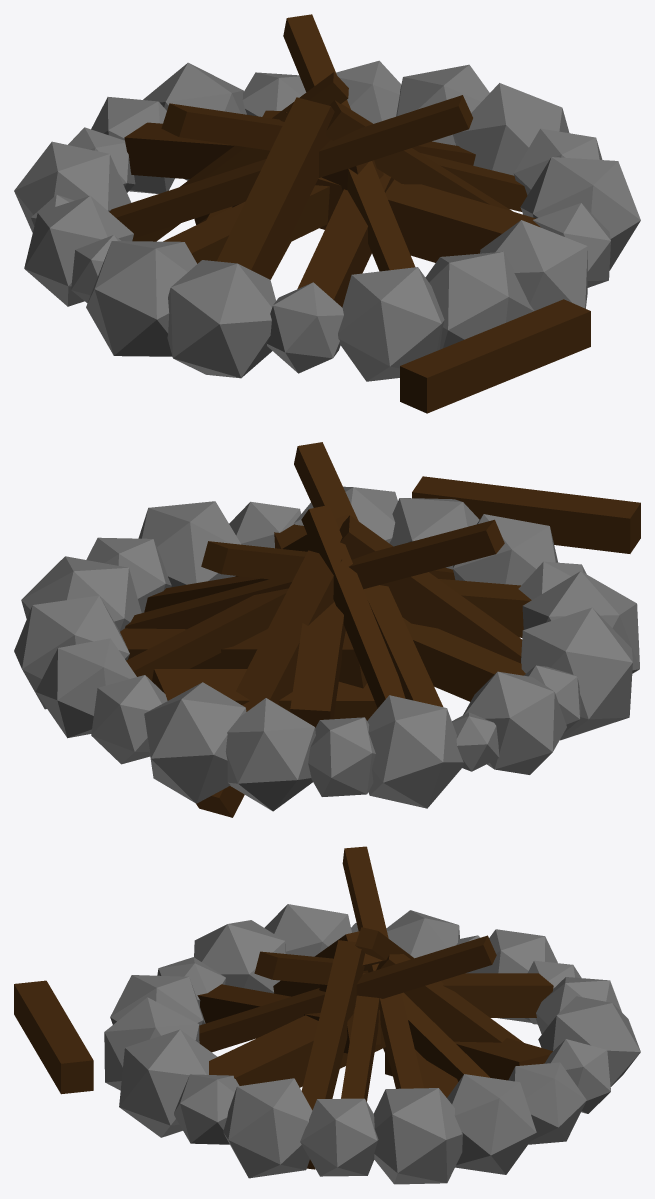
File: hoguera.fbx
3 renders of one model, top to bottom at view 1: azimuth 30°, elevation 25°; view 2: azimuth 150°, elevation 25°; view 3: azimuth 270°, elevation 25°, orthographic. The views are drawn at different scales.
Parts seen in each view (by area): view 1: Icosphere.011; view 2: Icosphere.011; view 3: Icosphere.011.
Boxes of the visible parts, box(x1,y1,x2,y2) form: Icosphere.011: box(14, 14, 640, 413); Icosphere.011: box(14, 442, 640, 817); Icosphere.011: box(14, 846, 640, 1184).
Size of the model in its own units: 150 by 63.93 by 177.
